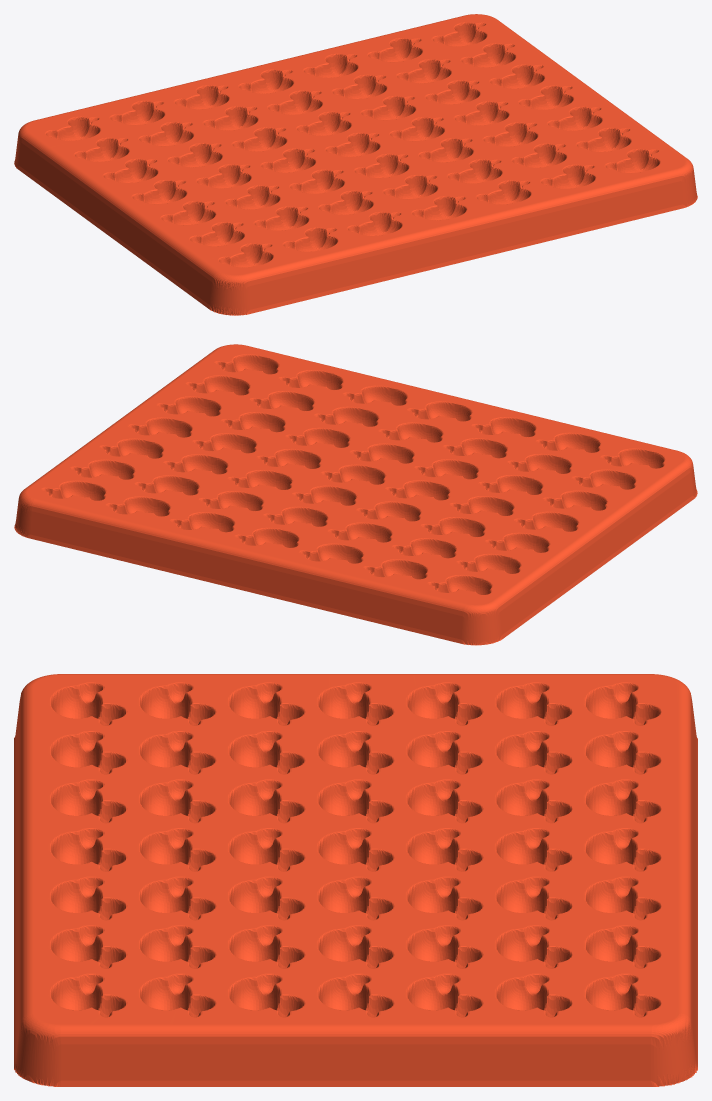
Rendered from mold.glb.
3 views of the same model, one above another, from view 1: azimuth 30°, elevation 25°; view 2: azimuth 150°, elevation 25°; view 3: azimuth 270°, elevation 25° (orthographic). The views are drawn at different scales.
Visible parts, largest first — view 1: geometry_0; view 2: geometry_0; view 3: geometry_0.
Boxes of the visible parts, x1,y1,x2,y2 form: geometry_0: (14, 14, 697, 315); geometry_0: (14, 344, 697, 645); geometry_0: (14, 674, 697, 1086).
Size of the model in its own units: 0.1638 by 0.0113 by 0.1295.
